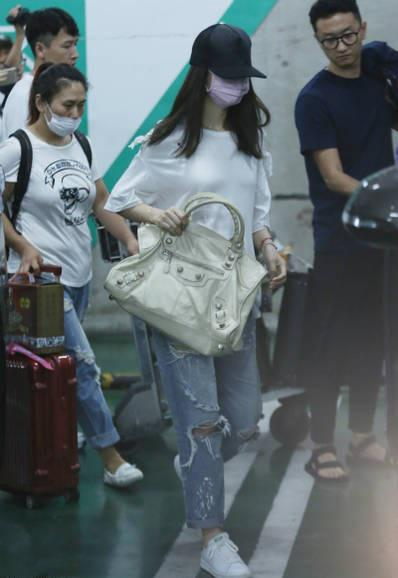NONE: (320, 22, 364, 70), (43, 35, 84, 78)
OK: (200, 60, 251, 110)
WRONG: (42, 92, 86, 136)
